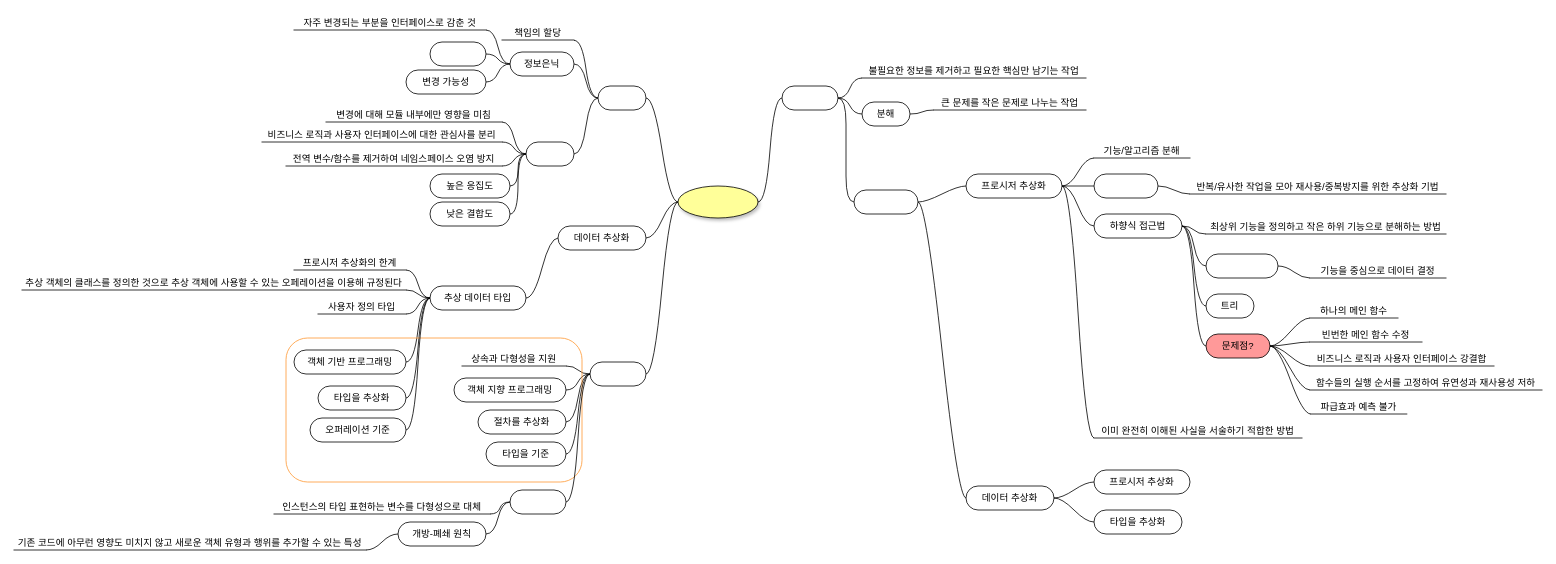
This 1556x564 diagram has some shape labels left out. The centre of each missing label's shape, as x and y in pixels:
"객체 분해" belongs at (718,203).
"기능 분해" belongs at (1241,265).
"다형성" belongs at (537,501).
"매커니즘" belongs at (885,201).
"모듈" belongs at (621,97).
"복잡성" belongs at (457,53).
"장점" belongs at (549,153).
"추상화" belongs at (809,97).
"클래스" belongs at (617,373).
"프로시저" belongs at (1125,185).
